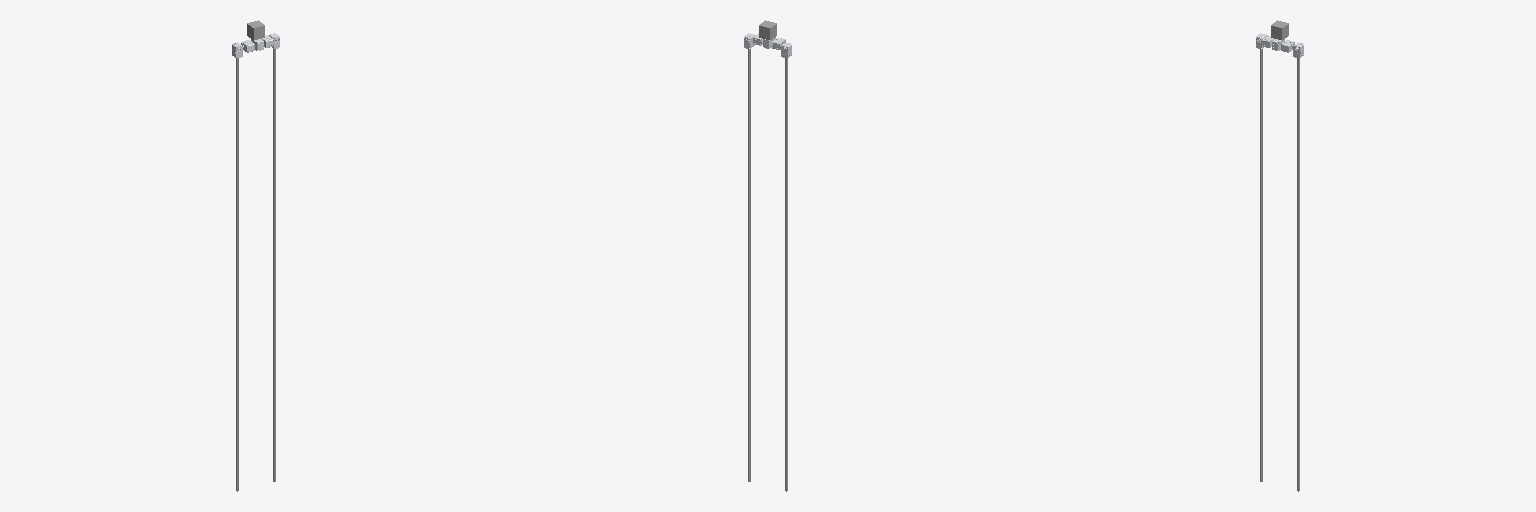
robot.urdf — chopstick_bot:
<?xml version='1.0' encoding='utf-8'?>
<robot name="chopstick_bot">
  <link name="world" />
  <joint name="world_to_base" type="fixed">
    <origin xyz="0.000000 0.000000 1.870000" rpy="0.000000 0.000000 0.000000" />
    <parent link="world" />
    <child link="base_motor_link" />
    </joint>
  <link name="base_motor_link">
    <visual>
      <origin xyz="0.000000 0.000000 0.000000" rpy="0.000000 0.000000 0.000000" />
      <geometry>
        <mesh filename="meshes/XL-430_new_coordinate_on_axis.STL" scale="0.001000 0.001000 0.001000" />
        </geometry>
      <material name="motor_mat">
        <color rgba="0.89804 0.91765 0.92941 1.0" />
        </material>
      </visual>
    <collision>
      <origin xyz="0.000000 -0.012000 0.000000" rpy="0.000000 0.000000 0.000000" />
      <geometry>
        <box size="0.028500 0.046500 0.034000" />
        </geometry>
      </collision>
    <inertial>
      <origin xyz="0.000000 -0.012000 0.000000" rpy="0.000000 0.000000 0.000000" />
      <mass value="0.065000" />
      <inertia ixx="0.000017973854" ixy="0" ixz="0" iyy="0.000010661354" iyz="0" izz="0.000016111875" />
      </inertial>
    </link>
  <link name="l_hip_pitch">
    <visual>
      <origin xyz="0.000000 0.000000 0.000000" rpy="0.000000 0.000000 0.000000" />
      <geometry>
        <mesh filename="meshes/XL-430_new_coordinate_on_axis.STL" scale="0.001000 0.001000 0.001000" />
        </geometry>
      <material name="motor_mat">
        <color rgba="0.89804 0.91765 0.92941 1.0" />
        </material>
      </visual>
    <collision>
      <origin xyz="0.000000 -0.012000 0.000000" rpy="0.000000 0.000000 0.000000" />
      <geometry>
        <box size="0.028500 0.046500 0.034000" />
        </geometry>
      </collision>
    <inertial>
      <origin xyz="0.000000 -0.012000 0.000000" rpy="0.000000 0.000000 0.000000" />
      <mass value="0.065000" />
      <inertia ixx="0.000017973854" ixy="0" ixz="0" iyy="0.000010661354" iyz="0" izz="0.000016111875" />
      </inertial>
    </link>
  <link name="l_hip_pitch_out">
    <inertial>
      <origin xyz="0.000000 0.000000 0.000000" rpy="0.000000 0.000000 0.000000" />
      <mass value="0.001000" />
      <inertia ixx="0.000000016667" ixy="0" ixz="0" iyy="0.000000016667" iyz="0" izz="0.000000016667" />
      </inertial>
    </link>
  <joint name="l_hip_pitch_mount_fixed" type="fixed">
    <origin xyz="-0.040000 0.000000 0.000000" rpy="0.000000 -1.570796 0.000000" />
    <parent link="base_motor_link" />
    <child link="l_hip_pitch" />
    </joint>
  <joint name="l_hip_pitch_joint" type="revolute">
    <origin xyz="0.000000 0.000000 0.000000" rpy="0.000000 0.000000 0.000000" />
    <parent link="l_hip_pitch" />
    <child link="l_hip_pitch_out" />
    <axis xyz="0.000000 0.000000 1.000000" />
    <limit lower="-3.14159" upper="3.14159" effort="5.0" velocity="8.0" />
    </joint>
  <link name="l_hip_roll">
    <visual>
      <origin xyz="0.000000 0.000000 0.000000" rpy="0.000000 0.000000 0.000000" />
      <geometry>
        <mesh filename="meshes/XL-430_new_coordinate_on_axis.STL" scale="0.001000 0.001000 0.001000" />
        </geometry>
      <material name="motor_mat">
        <color rgba="0.89804 0.91765 0.92941 1.0" />
        </material>
      </visual>
    <collision>
      <origin xyz="0.000000 -0.012000 0.000000" rpy="0.000000 0.000000 0.000000" />
      <geometry>
        <box size="0.028500 0.046500 0.034000" />
        </geometry>
      </collision>
    <inertial>
      <origin xyz="0.000000 -0.012000 0.000000" rpy="0.000000 0.000000 0.000000" />
      <mass value="0.065000" />
      <inertia ixx="0.000017973854" ixy="0" ixz="0" iyy="0.000010661354" iyz="0" izz="0.000016111875" />
      </inertial>
    </link>
  <link name="l_hip_roll_out">
    <inertial>
      <origin xyz="0.000000 0.000000 0.000000" rpy="0.000000 0.000000 0.000000" />
      <mass value="0.001000" />
      <inertia ixx="0.000000016667" ixy="0" ixz="0" iyy="0.000000016667" iyz="0" izz="0.000000016667" />
      </inertial>
    </link>
  <joint name="l_hip_roll_mount_fixed" type="fixed">
    <origin xyz="0.000000 0.000000 0.040000" rpy="0.000000 -1.570796 -1.570796" />
    <parent link="l_hip_pitch_out" />
    <child link="l_hip_roll" />
    </joint>
  <joint name="l_hip_roll_joint" type="revolute">
    <origin xyz="0.000000 0.000000 0.000000" rpy="0.000000 0.000000 0.000000" />
    <parent link="l_hip_roll" />
    <child link="l_hip_roll_out" />
    <axis xyz="0.000000 0.000000 1.000000" />
    <limit lower="-3.14159" upper="3.14159" effort="5.0" velocity="8.0" />
    </joint>
  <link name="l_end_effector">
    <visual>
      <origin xyz="0.000000 0.000000 0.000000" rpy="1.570796 0.000000 0.000000" />
      <geometry>
        <cylinder radius="0.005000" length="1.800000" />
        </geometry>
      <material name="cylinder_mat">
        <color rgba="0.7 0.7 0.7 1.0" />
        </material>
      </visual>
    <collision>
      <origin xyz="0.000000 -0.900000 0.000000" rpy="0.000000 0.000000 0.000000" />
      <geometry>
        <box size="0.020000 0.020000 0.020000" />
        </geometry>
      </collision>
    <inertial>
      <origin xyz="0.000000 0.000000 0.000000" rpy="0.000000 0.000000 0.000000" />
      <mass value="0.070686" />
      <inertia ixx="0.019085617157" ixy="0" ixz="0" iyy="0.019085617157" iyz="0" izz="0.000000883573" />
      </inertial>
    </link>
  <joint name="l_end_effector_fixed" type="fixed">
    <origin xyz="0.000000 -0.900000 0.000000" rpy="0.000000 0.000000 0.000000" />
    <parent link="l_hip_roll_out" />
    <child link="l_end_effector" />
    </joint>
  <link name="r_hip_pitch">
    <visual>
      <origin xyz="0.000000 0.000000 0.000000" rpy="0.000000 0.000000 0.000000" />
      <geometry>
        <mesh filename="meshes/XL-430_new_coordinate_on_axis.STL" scale="0.001000 0.001000 0.001000" />
        </geometry>
      <material name="motor_mat">
        <color rgba="0.89804 0.91765 0.92941 1.0" />
        </material>
      </visual>
    <collision>
      <origin xyz="0.000000 -0.012000 0.000000" rpy="0.000000 0.000000 0.000000" />
      <geometry>
        <box size="0.028500 0.046500 0.034000" />
        </geometry>
      </collision>
    <inertial>
      <origin xyz="0.000000 -0.012000 0.000000" rpy="0.000000 0.000000 0.000000" />
      <mass value="0.065000" />
      <inertia ixx="0.000017973854" ixy="0" ixz="0" iyy="0.000010661354" iyz="0" izz="0.000016111875" />
      </inertial>
    </link>
  <link name="r_hip_pitch_out">
    <inertial>
      <origin xyz="0.000000 0.000000 0.000000" rpy="0.000000 0.000000 0.000000" />
      <mass value="0.001000" />
      <inertia ixx="0.000000016667" ixy="0" ixz="0" iyy="0.000000016667" iyz="0" izz="0.000000016667" />
      </inertial>
    </link>
  <joint name="r_hip_pitch_mount_fixed" type="fixed">
    <origin xyz="0.040000 0.000000 0.000000" rpy="0.000000 1.570796 -0.000000" />
    <parent link="base_motor_link" />
    <child link="r_hip_pitch" />
    </joint>
  <joint name="r_hip_pitch_joint" type="revolute">
    <origin xyz="0.000000 0.000000 0.000000" rpy="0.000000 0.000000 0.000000" />
    <parent link="r_hip_pitch" />
    <child link="r_hip_pitch_out" />
    <axis xyz="0.000000 0.000000 1.000000" />
    <limit lower="-3.14159" upper="3.14159" effort="5.0" velocity="8.0" />
    </joint>
  <link name="r_hip_roll">
    <visual>
      <origin xyz="0.000000 0.000000 0.000000" rpy="0.000000 0.000000 0.000000" />
      <geometry>
        <mesh filename="meshes/XL-430_new_coordinate_on_axis.STL" scale="0.001000 0.001000 0.001000" />
        </geometry>
      <material name="motor_mat">
        <color rgba="0.89804 0.91765 0.92941 1.0" />
        </material>
      </visual>
    <collision>
      <origin xyz="0.000000 -0.012000 0.000000" rpy="0.000000 0.000000 0.000000" />
      <geometry>
        <box size="0.028500 0.046500 0.034000" />
        </geometry>
      </collision>
    <inertial>
      <origin xyz="0.000000 -0.012000 0.000000" rpy="0.000000 0.000000 0.000000" />
      <mass value="0.065000" />
      <inertia ixx="0.000017973854" ixy="0" ixz="0" iyy="0.000010661354" iyz="0" izz="0.000016111875" />
      </inertial>
    </link>
  <link name="r_hip_roll_out">
    <inertial>
      <origin xyz="0.000000 0.000000 0.000000" rpy="0.000000 0.000000 0.000000" />
      <mass value="0.001000" />
      <inertia ixx="0.000000016667" ixy="0" ixz="0" iyy="0.000000016667" iyz="0" izz="0.000000016667" />
      </inertial>
    </link>
  <joint name="r_hip_roll_mount_fixed" type="fixed">
    <origin xyz="-0.000000 0.000000 0.040000" rpy="0.000000 1.570796 1.570796" />
    <parent link="r_hip_pitch_out" />
    <child link="r_hip_roll" />
    </joint>
  <joint name="r_hip_roll_joint" type="revolute">
    <origin xyz="0.000000 0.000000 0.000000" rpy="0.000000 0.000000 0.000000" />
    <parent link="r_hip_roll" />
    <child link="r_hip_roll_out" />
    <axis xyz="0.000000 0.000000 1.000000" />
    <limit lower="-3.14159" upper="3.14159" effort="5.0" velocity="8.0" />
    </joint>
  <link name="r_end_effector">
    <visual>
      <origin xyz="0.000000 0.000000 0.000000" rpy="1.570796 0.000000 0.000000" />
      <geometry>
        <cylinder radius="0.005000" length="1.800000" />
        </geometry>
      <material name="cylinder_mat">
        <color rgba="0.7 0.7 0.7 1.0" />
        </material>
      </visual>
    <collision>
      <origin xyz="0.000000 -0.900000 0.000000" rpy="0.000000 0.000000 0.000000" />
      <geometry>
        <box size="0.020000 0.020000 0.020000" />
        </geometry>
      </collision>
    <inertial>
      <origin xyz="0.000000 0.000000 0.000000" rpy="0.000000 0.000000 0.000000" />
      <mass value="0.070686" />
      <inertia ixx="0.019085617157" ixy="0" ixz="0" iyy="0.019085617157" iyz="0" izz="0.000000883573" />
      </inertial>
    </link>
  <joint name="r_end_effector_fixed" type="fixed">
    <origin xyz="-0.000000 -0.900000 0.000000" rpy="0.000000 -0.000000 0.000000" />
    <parent link="r_hip_roll_out" />
    <child link="r_end_effector" />
    </joint>
  <link name="trunk_link">
    <visual>
      <origin xyz="0.000000 0.000000 0.000000" rpy="0.000000 0.000000 0.000000" />
      <geometry>
        <box size="0.050000 0.050000 0.050000" />
        </geometry>
      <material name="box_mat">
        <color rgba="0.7 0.7 0.7 1.0" />
        </material>
      </visual>
    <collision>
      <origin xyz="0.000000 0.000000 0.000000" rpy="0.000000 0.000000 0.000000" />
      <geometry>
        <box size="0.050000 0.050000 0.050000" />
        </geometry>
      </collision>
    <inertial>
      <origin xyz="0.000000 0.000000 0.000000" rpy="0.000000 0.000000 0.000000" />
      <mass value="0.200000" />
      <inertia ixx="0.000083333333" ixy="0" ixz="0" iyy="0.000083333333" iyz="0" izz="0.000083333333" />
      </inertial>
    </link>
  <joint name="base_to_trunk" type="revolute">
    <origin xyz="0.000000 0.000000 0.050000" rpy="0.000000 0.000000 0.000000" />
    <parent link="base_motor_link" />
    <child link="trunk_link" />
    <axis xyz="0.000000 0.000000 1.000000" />
    <limit lower="-3.14159" upper="3.14159" effort="5.0" velocity="8.0" />
    </joint>
  </robot>

--- What the picture shows (computed from the rendered views, not written in the file) ---
3 views of the same robot in one strip: view 1: azimuth 30°, elevation 25°; view 2: azimuth 150°, elevation 25°; view 3: azimuth 330°, elevation 25° (orthographic).
Model chopstick_bot with 13 links and 12 joints (5 revolute, 7 fixed), rooted at world, posed all joints at 0.
Visible links, largest first — view 1: l_end_effector, r_end_effector; view 2: l_end_effector, r_end_effector; view 3: r_end_effector, l_end_effector.
Boxes of the visible links, box(x1,y1,x2,y2) form: l_end_effector: box(236, 58, 238, 491); r_end_effector: box(273, 49, 275, 481); l_end_effector: box(785, 58, 787, 491); r_end_effector: box(748, 49, 750, 481); r_end_effector: box(1297, 58, 1299, 491); l_end_effector: box(1260, 49, 1262, 481).
Bounding box of the posed robot: 0.1885 × 0.0602 × 1.88 m (x, y, z).
5 mesh visuals loaded from 1 distinct referenced files (1 binary STL).
